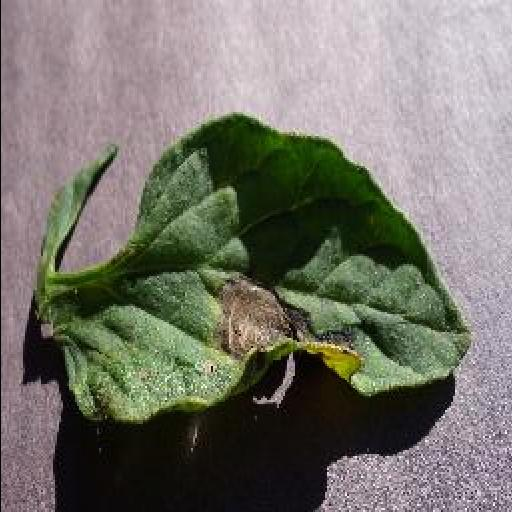disease_tomato: (34, 110, 472, 422)
